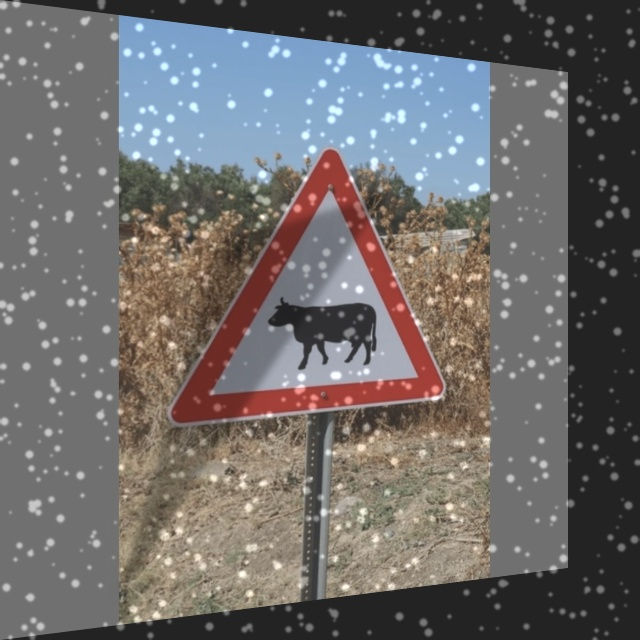Cattle: (184, 141, 448, 425)
